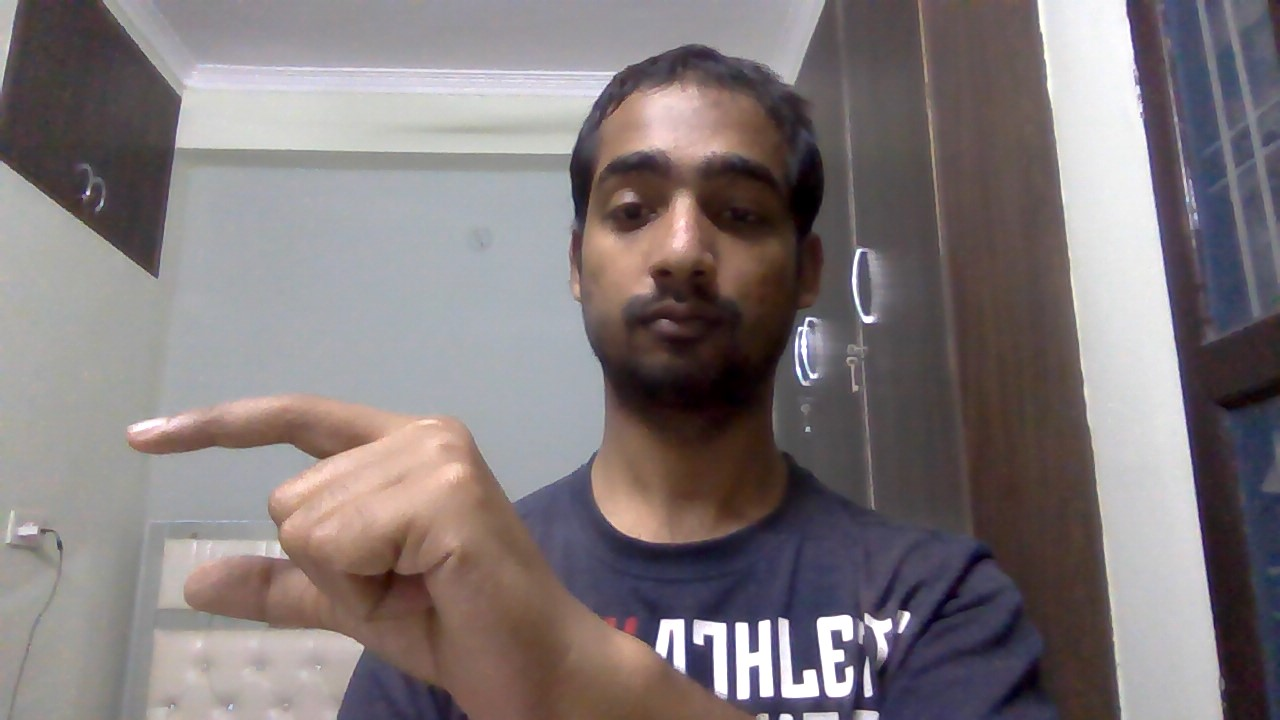Paste: (116, 390, 626, 709)
